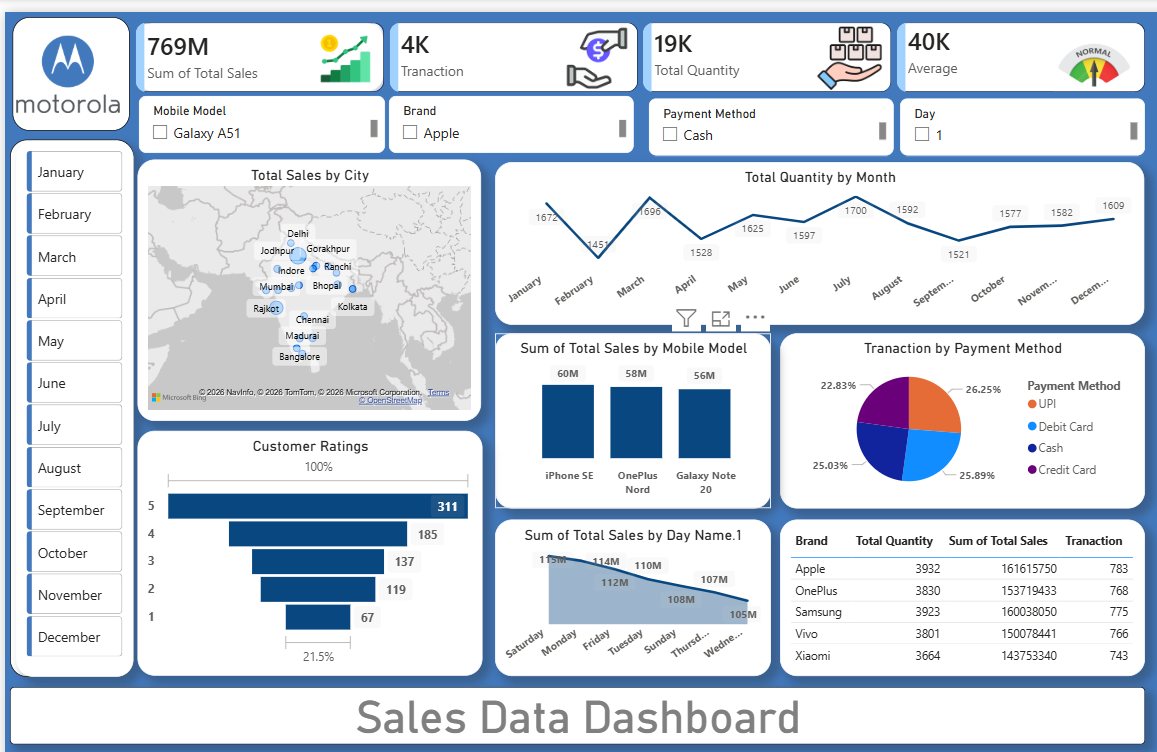

The dashboard page shown, as its layout file describes it:
{"tool":"powerbi","page":{"name":"Page 1","canvas":[1400,1080],"ordinal":0},"visuals":[{"type":"shape","box":[8.7,5.8,136.2,131.9],"z":0},{"type":"image","box":[12.3,19.8,119.8,103.7],"z":1000},{"type":"shape","box":[5.7,147.1,142.9,622.9],"z":2000},{"type":"advancedSlicerVisual","fields":{"Values":["Sales Data.Date.Variation.Date Hierarchy.Month"]},"box":[12.9,148.6,135.7,621.4],"z":3000},{"type":"cardVisual","fields":{"Data":["Sum(Sales Data.Total Sales)","Sales Data.Tranaction","Sales Data.Total Quantity","Sales Data.Average"]},"box":[134.3,0,1200,105.7],"z":4000},{"type":"map","title":"Total Sales by City","fields":{"Category":["Sales Data.City"],"Size":["Sum(Sales Data.Total Sales)"]},"box":[154.3,171.4,398.6,302.9],"z":4001},{"type":"lineChart","fields":{"Y":["Sales Data.Total Quantity"],"Category":["Sales Data.Date.Variation.Date Hierarchy.Month","Sales Data.Date.Variation.Date Hierarchy.Day"]},"box":[568.6,174.3,752.9,188.6],"z":4002},{"type":"pieChart","fields":{"Category":["Sales Data.Payment Method"],"Y":["Sales Data.Tranaction"]},"box":[898.6,372.9,422.9,202.9],"z":4005},{"type":"clusteredColumnChart","fields":{"Category":["Sales Data.Mobile Model"],"Y":["Sum(Sales Data.Total Sales)"]},"box":[568.6,372.9,320,202.9],"z":4006},{"type":"funnel","title":"Customer Ratings","fields":{"Y":["CountNonNull(Sales Data.Customer Ratings)"],"Category":["Sales Data.Customer Ratings"]},"box":[154.3,485.7,400,284.3],"z":4007},{"type":"areaChart","fields":{"Y":["Sum(Sales Data.Total Sales)"],"Category":["Sales Data.Day Name.1"]},"box":[568.6,588.6,320,181.4],"z":4008},{"type":"tableEx","fields":{"Values":["Sales Data.Brand","Sales Data.Total Quantity","Sum(Sales Data.Total Sales)","Sales Data.Tranaction"]},"box":[898.6,588.6,422.9,181.4],"z":4009},{"type":"slicer","fields":{"Values":["Sales Data.Mobile Model"]},"box":[155.1,97.1,285.5,66.7],"z":4010},{"type":"slicer","fields":{"Values":["Sales Data.Brand"]},"box":[444.9,97.1,284.1,66.7],"z":4011},{"type":"slicer","fields":{"Values":["Sales Data.Payment Method"]},"box":[746.4,100,284.1,66.7],"z":4012},{"type":"slicer","fields":{"Values":["Sales Data.Day"]},"box":[1037.7,100,284.1,66.7],"z":4013},{"type":"shape","title":"Sales Data Dashboard","box":[5.8,782.6,1315.9,66.7],"z":4014}]}

Visuals, with their boxes on the page's 1400x1080 design canvas (x1, y1, x2, y2). These are canvas units, not pixel positions in the 1157x752 screenshot, which may show the page scaled, cropped or inside an application window:
shape: box(9, 6, 145, 138)
image: box(12, 20, 132, 124)
shape: box(6, 147, 149, 770)
advancedSlicerVisual - Sales Data.Date.Variation.Date Hierarchy.Month: box(13, 149, 149, 770)
cardVisual - Sum(Sales Data.Total Sales) x Sales Data.Tranaction: box(134, 0, 1334, 106)
"Total Sales by City" map: box(154, 171, 553, 474)
lineChart - Sales Data.Total Quantity x Sales Data.Date.Variation.Date Hierarchy.Month: box(569, 174, 1322, 363)
pieChart - Sales Data.Payment Method x Sales Data.Tranaction: box(899, 373, 1322, 576)
clusteredColumnChart - Sales Data.Mobile Model x Sum(Sales Data.Total Sales): box(569, 373, 889, 576)
"Customer Ratings" funnel: box(154, 486, 554, 770)
areaChart - Sum(Sales Data.Total Sales) x Sales Data.Day Name.1: box(569, 589, 889, 770)
tableEx - Sales Data.Brand x Sales Data.Total Quantity: box(899, 589, 1322, 770)
slicer - Sales Data.Mobile Model: box(155, 97, 441, 164)
slicer - Sales Data.Brand: box(445, 97, 729, 164)
slicer - Sales Data.Payment Method: box(746, 100, 1030, 167)
slicer - Sales Data.Day: box(1038, 100, 1322, 167)
"Sales Data Dashboard" shape: box(6, 783, 1322, 849)
